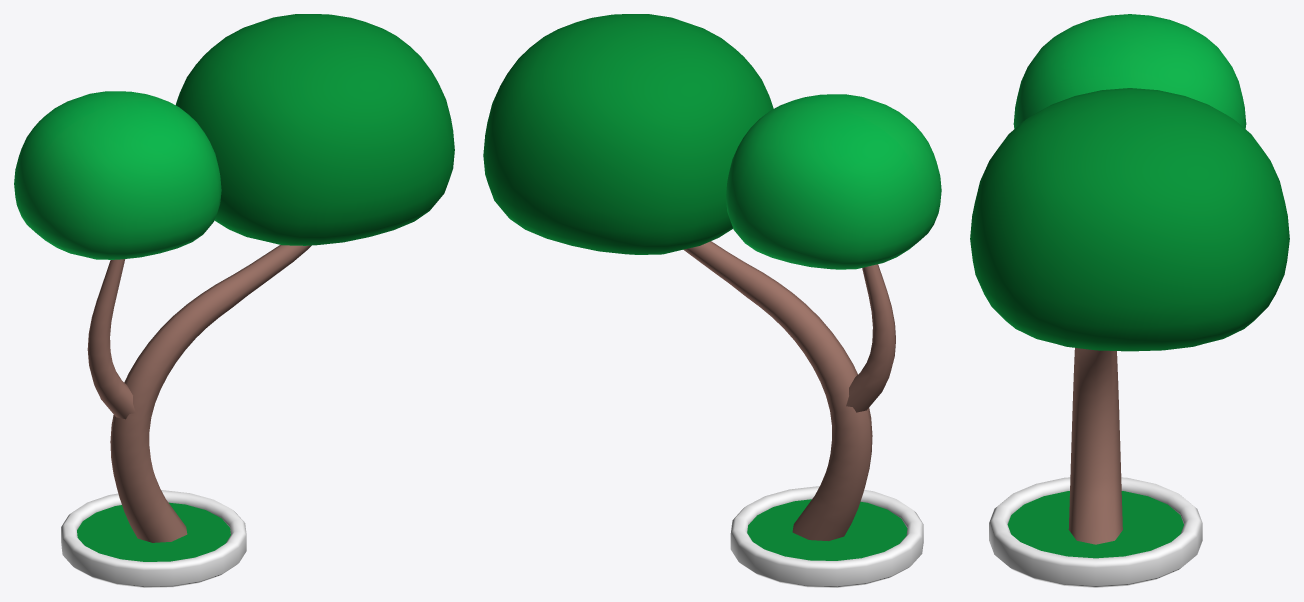
File: Town_2_Tree_1.glb
The picture shows the model from 3 angles, left to right: view 1: azimuth 30°, elevation 25°; view 2: azimuth 150°, elevation 25°; view 3: azimuth 270°, elevation 25°; orthographic projection. The views are drawn at different scales.
Visible parts, largest first — view 1: Town_2_Tree_1; view 2: Town_2_Tree_1; view 3: Town_2_Tree_1.
Boxes of the visible parts, bbox=[...] form: Town_2_Tree_1: bbox=[14, 14, 454, 587]; Town_2_Tree_1: bbox=[483, 14, 941, 587]; Town_2_Tree_1: bbox=[970, 14, 1289, 587].
Size of the model in its own units: 5.88 by 6.48 by 3.53.
Materials: 1 (1 with a texture image).
